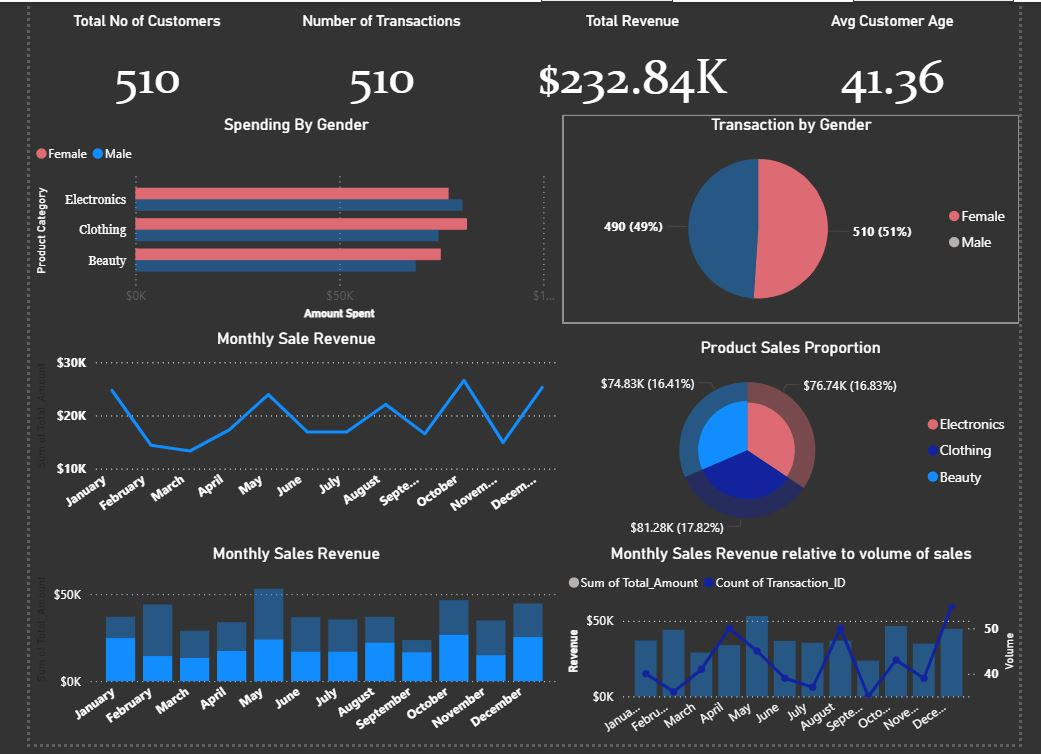

This screenshot's page, from the dashboard's own definition file:
{"tool":"powerbi","page":{"name":"Page 1","canvas":[960,720],"ordinal":0},"visuals":[{"type":"clusteredBarChart","title":"Spending By Gender","fields":{"Category":["retail_sales_dataset.Product_Category"],"Y":["Sum(retail_sales_dataset.Total_Amount)"],"Series":["retail_sales_dataset.Gender"]},"box":[0,109,516.9,203.2],"z":0},{"type":"pieChart","title":"Transaction by Gender","fields":{"Category":["retail_sales_dataset.Gender"],"Y":["CountNonNull(retail_sales_dataset.Transaction_ID)"]},"box":[517,109,444,203],"z":1000},{"type":"lineChart","title":"Monthly Sale Revenue","fields":{"Y":["Sum(retail_sales_dataset.Total_Amount)"],"Category":["retail_sales_dataset.Date.Variation.Date Hierarchy.Month"]},"box":[0,316.7,516.9,209.1],"z":2000},{"type":"lineStackedColumnComboChart","title":"Monthly Sales Revenue","fields":{"Category":["retail_sales_dataset.Date.Variation.Date Hierarchy.Month"],"Y":["Sum(retail_sales_dataset.Total_Amount)"]},"box":[0,525.8,516.9,194.2],"z":3000},{"type":"lineStackedColumnComboChart","title":"Monthly Sales Revenue relative to volume of sales","fields":{"Category":["retail_sales_dataset.Date.Variation.Date Hierarchy.Month"],"Y":["Sum(retail_sales_dataset.Total_Amount)"],"Y2":["CountNonNull(retail_sales_dataset.Transaction_ID)"]},"box":[516.7,525.5,443.9,195],"z":4000},{"type":"card","title":"Total No of Customers","fields":{"Values":["retail_sales_dataset.Tptal No Of Customer"]},"box":[0,10.2,227.1,99],"z":5000},{"type":"card","title":"Total Revenue","fields":{"Values":["Sum(retail_sales_dataset.Total_Amount)"]},"box":[455,10,258,99],"z":6000},{"type":"card","title":"Avg Customer Age","fields":{"Values":["retail_sales_dataset.Average Age"]},"box":[713,10,247,99],"z":7000},{"type":"card","title":"Number of Transactions","fields":{"Values":["CountNonNull(retail_sales_dataset.Transaction_ID)"]},"box":[227,10,228,99],"z":8000},{"type":"pieChart","title":"Product Sales Proportion","fields":{"Y":["Sum(retail_sales_dataset.Total_Amount)"],"Category":["retail_sales_dataset.Product_Category"]},"box":[517,326,443,199],"z":8001}]}

Visuals, with their boxes on the page's 960x720 design canvas (x1, y1, x2, y2). These are canvas units, not pixel positions in the 1041x754 screenshot, which may show the page scaled, cropped or inside an application window:
"Spending By Gender" clusteredBarChart: left=0, top=109, right=517, bottom=312
"Transaction by Gender" pieChart: left=517, top=109, right=961, bottom=312
"Monthly Sale Revenue" lineChart: left=0, top=317, right=517, bottom=526
"Monthly Sales Revenue" lineStackedColumnComboChart: left=0, top=526, right=517, bottom=720
"Monthly Sales Revenue relative to volume of sales" lineStackedColumnComboChart: left=517, top=526, right=961, bottom=720
"Total No of Customers" card: left=0, top=10, right=227, bottom=109
"Total Revenue" card: left=455, top=10, right=713, bottom=109
"Avg Customer Age" card: left=713, top=10, right=960, bottom=109
"Number of Transactions" card: left=227, top=10, right=455, bottom=109
"Product Sales Proportion" pieChart: left=517, top=326, right=960, bottom=525
